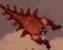crimera: (0, 1, 63, 50)
